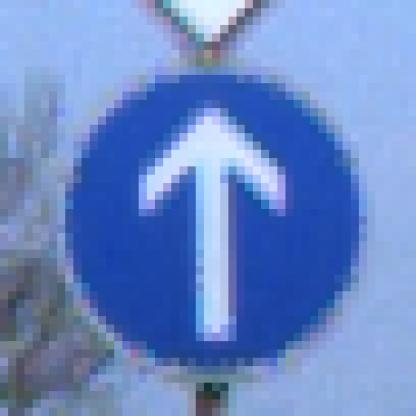AheadOnly: (50, 43, 376, 376)
